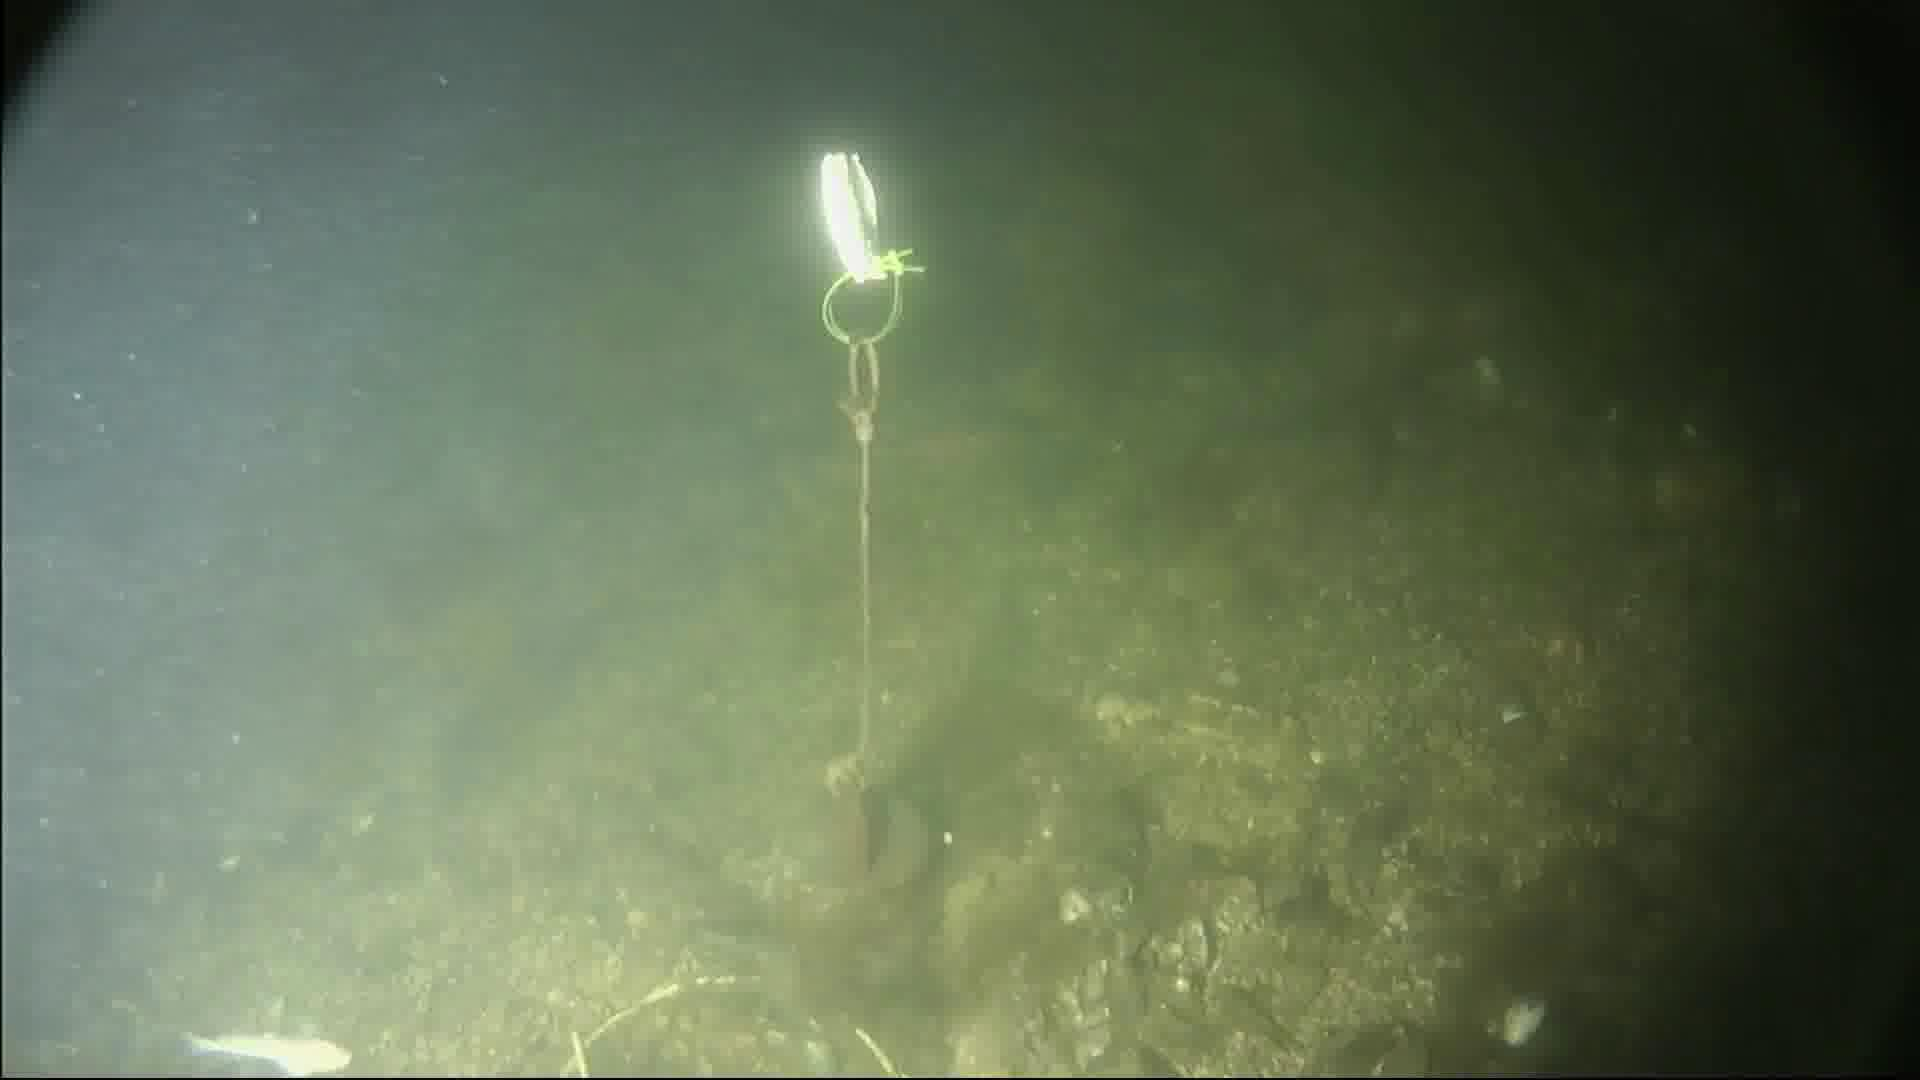small_fish: (175, 1017, 351, 1079)
